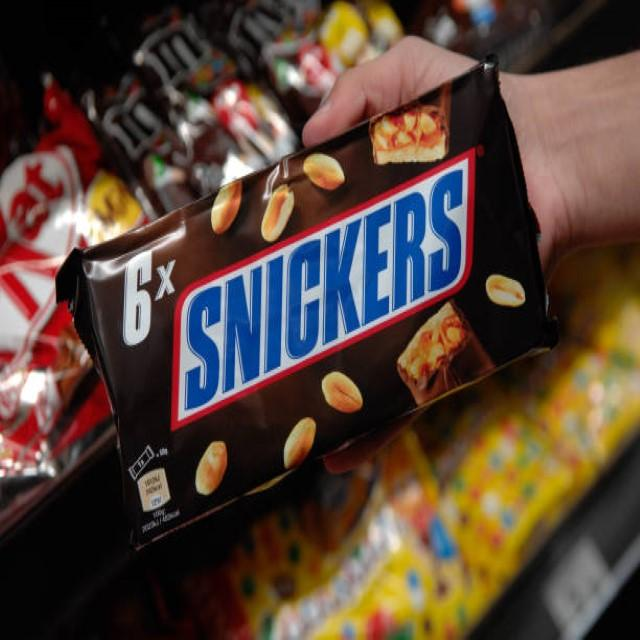snickers_chocolate: (120, 133, 485, 572)
